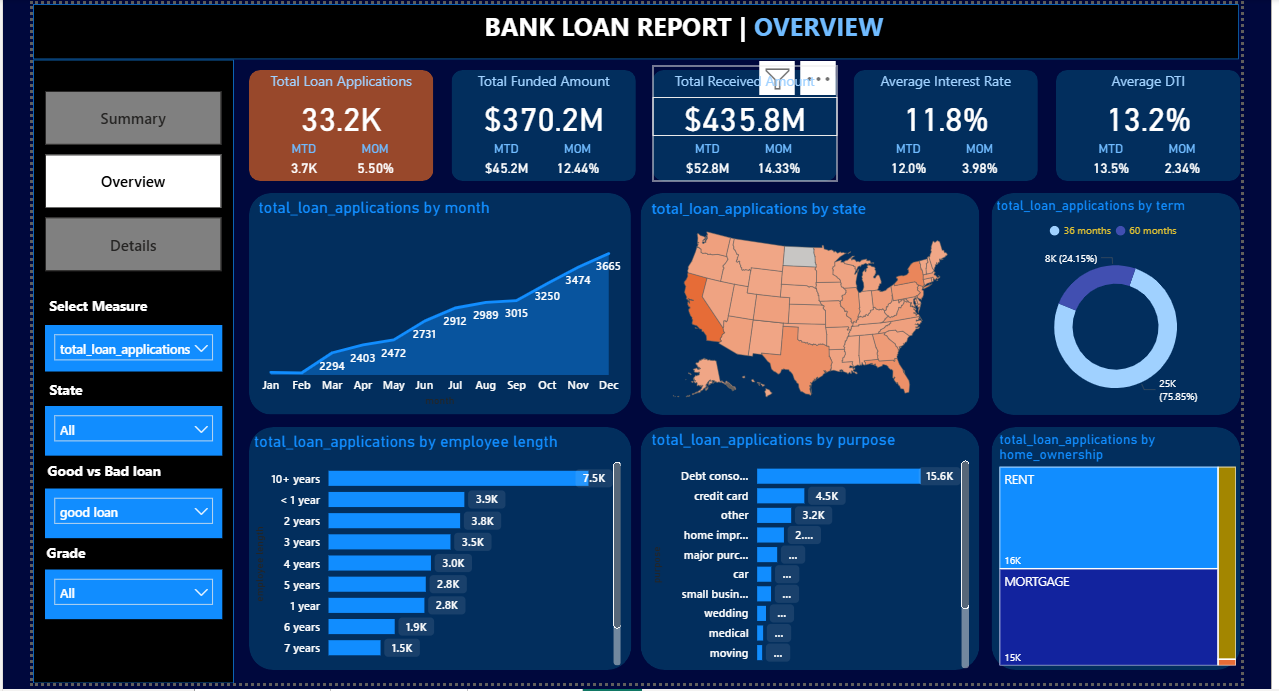

The dashboard page shown, as its layout file describes it:
{"tool":"powerbi","page":{"name":"Overview","canvas":[1280,720],"ordinal":1},"visuals":[{"type":"shape","box":[0,0,1278.9,58.9],"z":0},{"type":"shape","box":[0,58.9,213.1,661.7],"z":1000},{"type":"textbox","box":[451.7,0,477.2,52.5],"z":2000},{"type":"group","id":"g1","title":"Group 1","box":[229,65.2,195.6,122.5],"z":3000},{"type":"shape","box":[229,70,195.6,117.7],"z":3000,"group":"g1"},{"type":"shape","box":[443,70,195.6,117.7],"z":3000,"group":"g2"},{"type":"shape","box":[656.9,70,195.6,117.7],"z":3000,"group":"g3"},{"type":"shape","box":[870.9,70,195.6,117.7],"z":3000,"group":"g4"},{"type":"shape","box":[1084.4,70,195.6,117.7],"z":3000,"group":"g5"},{"type":"group","id":"g2","title":"Group 1","box":[443,65.2,195.6,122.5],"z":4000},{"type":"group","id":"g3","title":"Group 1","box":[656.9,65.2,195.6,122.5],"z":5000},{"type":"group","id":"g4","title":"Group 1","box":[870.9,65.2,195.6,122.5],"z":6000},{"type":"group","id":"g5","title":"Group 1","box":[1084.4,65.2,195.6,122.5],"z":7000},{"type":"card","title":"Total Loan applications","fields":{"Values":["financial_loan.total_loan_applications"]},"box":[229,98.6,195.6,41.4],"z":8000,"group":"g1"},{"type":"card","title":"Total Loan applications","fields":{"Values":["financial_loan.Total_funded_amount"]},"box":[443,98.6,195.6,41.4],"z":8000,"group":"g2"},{"type":"card","title":"Total Loan applications","fields":{"Values":["financial_loan.total_amount_received"]},"box":[656.9,98.6,195.6,41.4],"z":8000,"group":"g3"},{"type":"card","title":"Total Loan applications","fields":{"Values":["financial_loan.avg_int_rate"]},"box":[870.9,98.6,195.6,41.4],"z":8000,"group":"g4"},{"type":"card","title":"Total Loan applications","fields":{"Values":["financial_loan.avg_dti"]},"box":[1084.4,98.6,195.6,41.4],"z":8000,"group":"g5"},{"type":"shape","box":[229,200.4,405,235],"z":8000},{"type":"textbox","box":[229,65.2,195.6,33.4],"z":9000,"group":"g1"},{"type":"textbox","box":[443,65.2,195.6,33.4],"z":9000,"group":"g2"},{"type":"textbox","box":[656.9,65.2,195.6,33.4],"z":9000,"group":"g3"},{"type":"textbox","box":[870.9,65.2,195.6,33.4],"z":9000,"group":"g4"},{"type":"textbox","box":[1084.4,65.2,195.6,33.4],"z":9000,"group":"g5"},{"type":"slicer","fields":{"Values":["financial_loan.address_state"]},"box":[12.7,426.3,187.7,52.5],"z":9000},{"type":"card","title":"MTD","fields":{"Values":["financial_loan.MTD_total_loan_applications"]},"box":[246.5,146.3,81.1,41.4],"z":10000,"group":"g1"},{"type":"card","title":"MTD","fields":{"Values":["financial_loan.MTD_total_funded_amount"]},"box":[460.5,146.3,81.1,41.4],"z":10000,"group":"g2"},{"type":"card","title":"MTD","fields":{"Values":["financial_loan.MTD_received_amount"]},"box":[674.4,146.3,81.1,41.4],"z":10000,"group":"g3"},{"type":"card","title":"MTD","fields":{"Values":["financial_loan.MTD_avg_int_rate"]},"box":[888.4,146.3,81.1,41.4],"z":10000,"group":"g4"},{"type":"card","title":"MTD","fields":{"Values":["financial_loan.MTD_avg_dti"]},"box":[1101.9,146.3,81.1,41.4],"z":10000,"group":"g5"},{"type":"textbox","box":[0,392.9,70,33.4],"z":10000},{"type":"card","title":"MOM","fields":{"Values":["financial_loan.MOM_total_application_count"]},"box":[327.6,146.3,70,41.4],"z":11000,"group":"g1"},{"type":"card","title":"MOM","fields":{"Values":["financial_loan.MOM_funded_amount"]},"box":[541.6,146.3,70,41.4],"z":11000,"group":"g2"},{"type":"card","title":"MOM","fields":{"Values":["financial_loan.MOM_received_Amount"]},"box":[755.5,146.3,70,41.4],"z":11000,"group":"g3"},{"type":"card","title":"MOM","fields":{"Values":["financial_loan.MOM_avg_int_rate"]},"box":[969.5,146.3,70,41.4],"z":11000,"group":"g4"},{"type":"card","title":"MOM","fields":{"Values":["financial_loan.MOM_avg_dti"]},"box":[1183,146.3,70,41.4],"z":11000,"group":"g5"},{"type":"slicer","fields":{"Values":["financial_loan.good loan vs bad loan"]},"box":[12.7,513.8,187.7,52.5],"z":11000},{"type":"slicer","fields":{"Values":["financial_loan.grade"]},"box":[12.7,599.7,187.7,52.5],"z":12000},{"type":"textbox","box":[0,478.8,151.1,33.4],"z":13000},{"type":"textbox","box":[0,566.3,70,33.4],"z":14000},{"type":"stackedAreaChart","fields":{"Y":["financial_loan.total_loan_applications"],"Category":["dates.month"]},"box":[233.8,205.2,394.5,225.9],"z":15000},{"type":"slicer","fields":{"Values":["select measure.select measure"]},"box":[12.7,340.4,187.7,49.3],"z":16000},{"type":"textbox","box":[0,303.8,138.4,36.6],"z":17000},{"type":"shape","box":[644.2,200.4,359.5,235.4],"z":18000},{"type":"shapeMap","fields":{"Value":["financial_loan.total_loan_applications"],"Category":["financial_loan.address_state"]},"box":[650.6,205.2,346.8,225.9],"z":19000},{"type":"shape","box":[1016.4,200.4,264,235.4],"z":20000},{"type":"donutChart","fields":{"Y":["financial_loan.total_loan_applications"],"Category":["financial_loan.term"]},"box":[1016.4,205.2,262.5,230.6],"z":21000},{"type":"shape","box":[229,448.6,405.6,257.7],"z":22000},{"type":"barChart","fields":{"Y":["financial_loan.total_loan_applications"],"Category":["financial_loan.emp_length"]},"box":[229,453.3,399.2,252.9],"z":23000},{"type":"shape","box":[644.2,448.6,359.5,257.7],"z":24000},{"type":"barChart","fields":{"Category":["financial_loan.purpose"],"Y":["financial_loan.total_loan_applications"]},"box":[650.6,451.7,346.8,257.7],"z":25000},{"type":"shape","box":[1016.4,448.6,264,257.7],"z":26000},{"type":"treemap","fields":{"Group":["financial_loan.home_ownership"],"Values":["financial_loan.total_loan_applications"]},"box":[1019.6,453.3,260.9,252.9],"z":27000},{"type":"pageNavigator","box":[12.7,92.3,187.7,192.5],"z":27001}]}

Visuals, with their boxes on the page's 1280x720 design canvas (x1, y1, x2, y2). These are canvas units, not pixel positions in the 1279x691 screenshot, which may show the page scaled, cropped or inside an application window:
shape: {"x1": 0, "y1": 0, "x2": 1279, "y2": 59}
shape: {"x1": 0, "y1": 59, "x2": 213, "y2": 721}
textbox: {"x1": 452, "y1": 0, "x2": 929, "y2": 52}
"Group 1" group: {"x1": 229, "y1": 65, "x2": 425, "y2": 188}
shape: {"x1": 229, "y1": 70, "x2": 425, "y2": 188}
shape: {"x1": 443, "y1": 70, "x2": 639, "y2": 188}
shape: {"x1": 657, "y1": 70, "x2": 852, "y2": 188}
shape: {"x1": 871, "y1": 70, "x2": 1066, "y2": 188}
shape: {"x1": 1084, "y1": 70, "x2": 1280, "y2": 188}
"Group 1" group: {"x1": 443, "y1": 65, "x2": 639, "y2": 188}
"Group 1" group: {"x1": 657, "y1": 65, "x2": 852, "y2": 188}
"Group 1" group: {"x1": 871, "y1": 65, "x2": 1066, "y2": 188}
"Group 1" group: {"x1": 1084, "y1": 65, "x2": 1280, "y2": 188}
"Total Loan applications" card: {"x1": 229, "y1": 99, "x2": 425, "y2": 140}
"Total Loan applications" card: {"x1": 443, "y1": 99, "x2": 639, "y2": 140}
"Total Loan applications" card: {"x1": 657, "y1": 99, "x2": 852, "y2": 140}
"Total Loan applications" card: {"x1": 871, "y1": 99, "x2": 1066, "y2": 140}
"Total Loan applications" card: {"x1": 1084, "y1": 99, "x2": 1280, "y2": 140}
shape: {"x1": 229, "y1": 200, "x2": 634, "y2": 435}
textbox: {"x1": 229, "y1": 65, "x2": 425, "y2": 99}
textbox: {"x1": 443, "y1": 65, "x2": 639, "y2": 99}
textbox: {"x1": 657, "y1": 65, "x2": 852, "y2": 99}
textbox: {"x1": 871, "y1": 65, "x2": 1066, "y2": 99}
textbox: {"x1": 1084, "y1": 65, "x2": 1280, "y2": 99}
slicer - financial_loan.address_state: {"x1": 13, "y1": 426, "x2": 200, "y2": 479}
"MTD" card: {"x1": 246, "y1": 146, "x2": 328, "y2": 188}
"MTD" card: {"x1": 460, "y1": 146, "x2": 542, "y2": 188}
"MTD" card: {"x1": 674, "y1": 146, "x2": 756, "y2": 188}
"MTD" card: {"x1": 888, "y1": 146, "x2": 970, "y2": 188}
"MTD" card: {"x1": 1102, "y1": 146, "x2": 1183, "y2": 188}
textbox: {"x1": 0, "y1": 393, "x2": 70, "y2": 426}
"MOM" card: {"x1": 328, "y1": 146, "x2": 398, "y2": 188}
"MOM" card: {"x1": 542, "y1": 146, "x2": 612, "y2": 188}
"MOM" card: {"x1": 756, "y1": 146, "x2": 826, "y2": 188}
"MOM" card: {"x1": 970, "y1": 146, "x2": 1040, "y2": 188}
"MOM" card: {"x1": 1183, "y1": 146, "x2": 1253, "y2": 188}
slicer - financial_loan.good loan vs bad loan: {"x1": 13, "y1": 514, "x2": 200, "y2": 566}
slicer - financial_loan.grade: {"x1": 13, "y1": 600, "x2": 200, "y2": 652}
textbox: {"x1": 0, "y1": 479, "x2": 151, "y2": 512}
textbox: {"x1": 0, "y1": 566, "x2": 70, "y2": 600}
stackedAreaChart - financial_loan.total_loan_applications x dates.month: {"x1": 234, "y1": 205, "x2": 628, "y2": 431}
slicer - select measure.select measure: {"x1": 13, "y1": 340, "x2": 200, "y2": 390}
textbox: {"x1": 0, "y1": 304, "x2": 138, "y2": 340}
shape: {"x1": 644, "y1": 200, "x2": 1004, "y2": 436}
shapeMap - financial_loan.total_loan_applications x financial_loan.address_state: {"x1": 651, "y1": 205, "x2": 997, "y2": 431}
shape: {"x1": 1016, "y1": 200, "x2": 1280, "y2": 436}
donutChart - financial_loan.total_loan_applications x financial_loan.term: {"x1": 1016, "y1": 205, "x2": 1279, "y2": 436}
shape: {"x1": 229, "y1": 449, "x2": 635, "y2": 706}
barChart - financial_loan.total_loan_applications x financial_loan.emp_length: {"x1": 229, "y1": 453, "x2": 628, "y2": 706}
shape: {"x1": 644, "y1": 449, "x2": 1004, "y2": 706}
barChart - financial_loan.purpose x financial_loan.total_loan_applications: {"x1": 651, "y1": 452, "x2": 997, "y2": 709}
shape: {"x1": 1016, "y1": 449, "x2": 1280, "y2": 706}
treemap - financial_loan.home_ownership x financial_loan.total_loan_applications: {"x1": 1020, "y1": 453, "x2": 1280, "y2": 706}
pageNavigator: {"x1": 13, "y1": 92, "x2": 200, "y2": 285}
